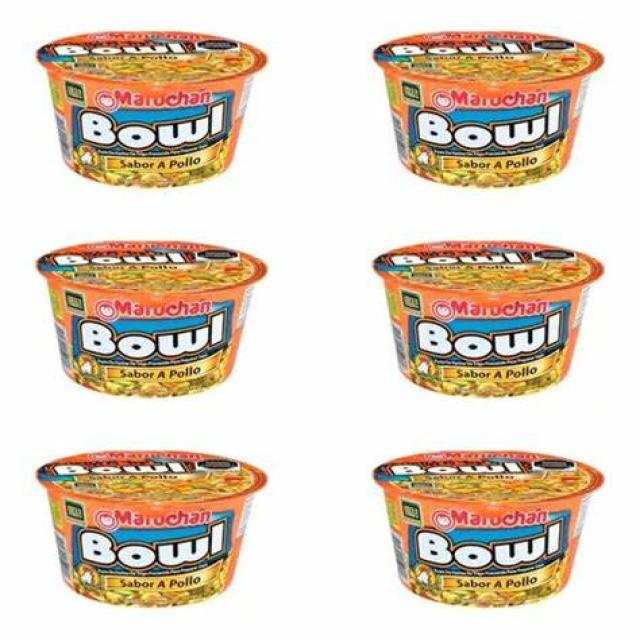Caja: (24, 23, 256, 185), (371, 28, 594, 190)
